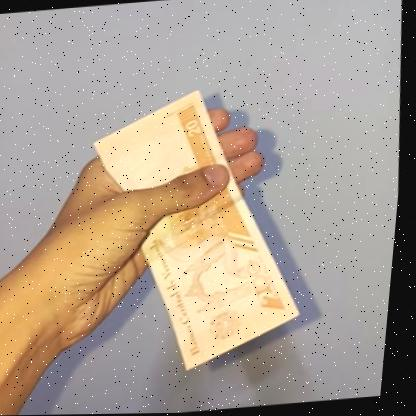twenty-back-vef: (75, 80, 324, 380)
